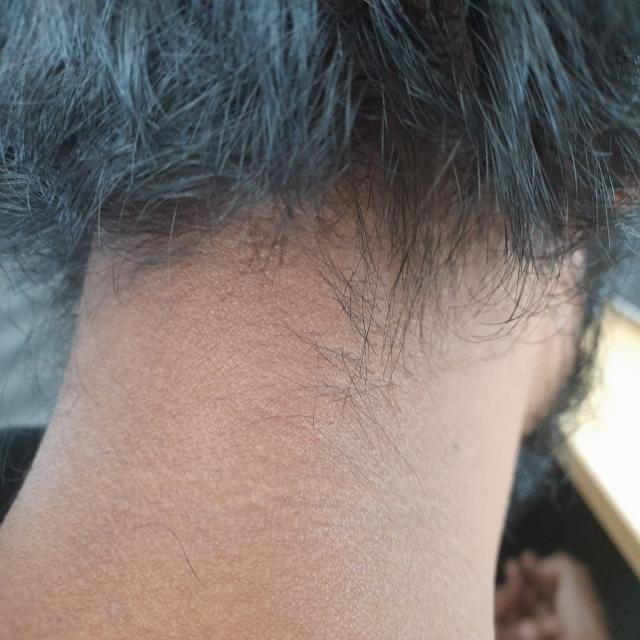Healthy: (0, 234, 574, 640)
